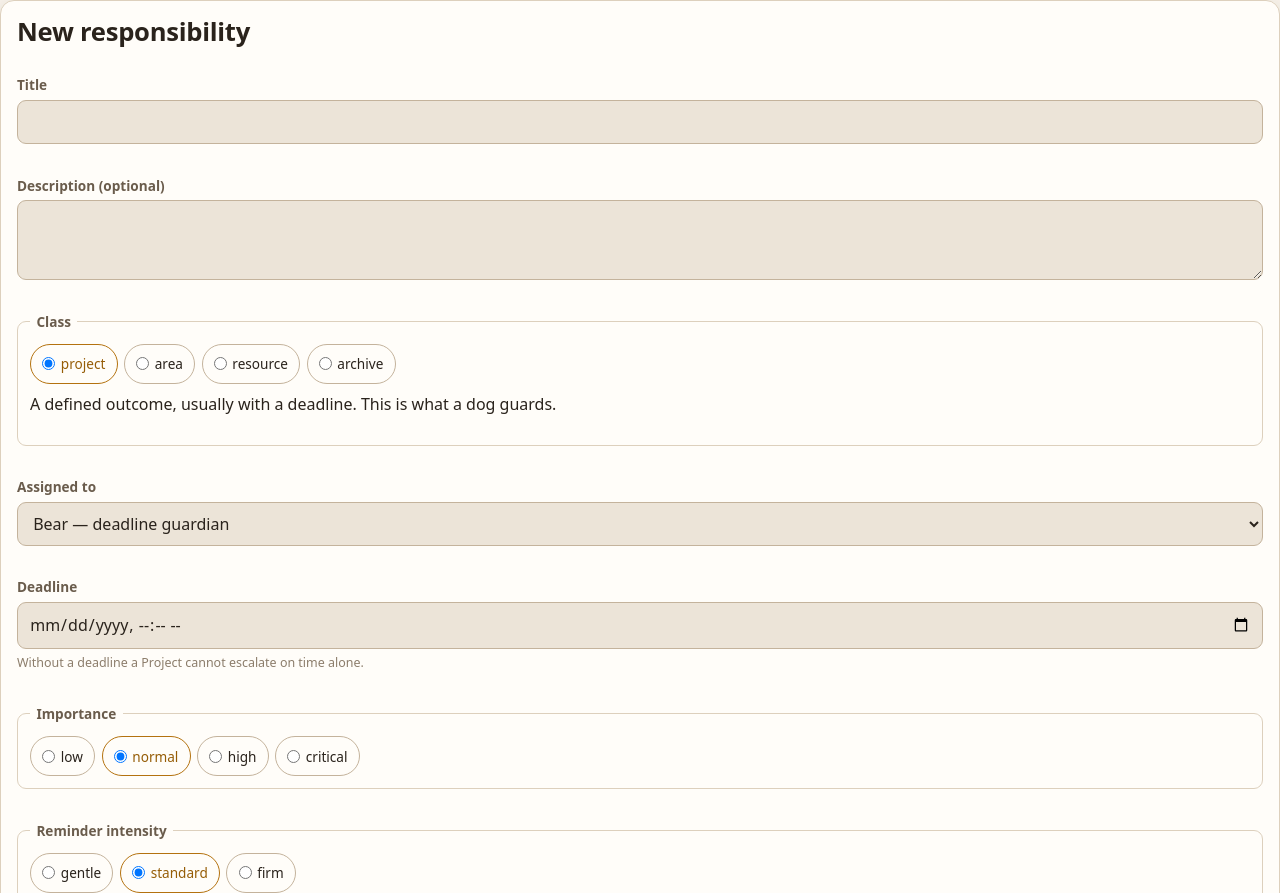
Scenario: ResponsibilityEditor › explains that Resources and Archives stay quiet
What coordinates should you click on to do the following:
click the radio button labelled "resource"
I would click on:
 (220, 364)
Its box is [214, 357, 227, 370].
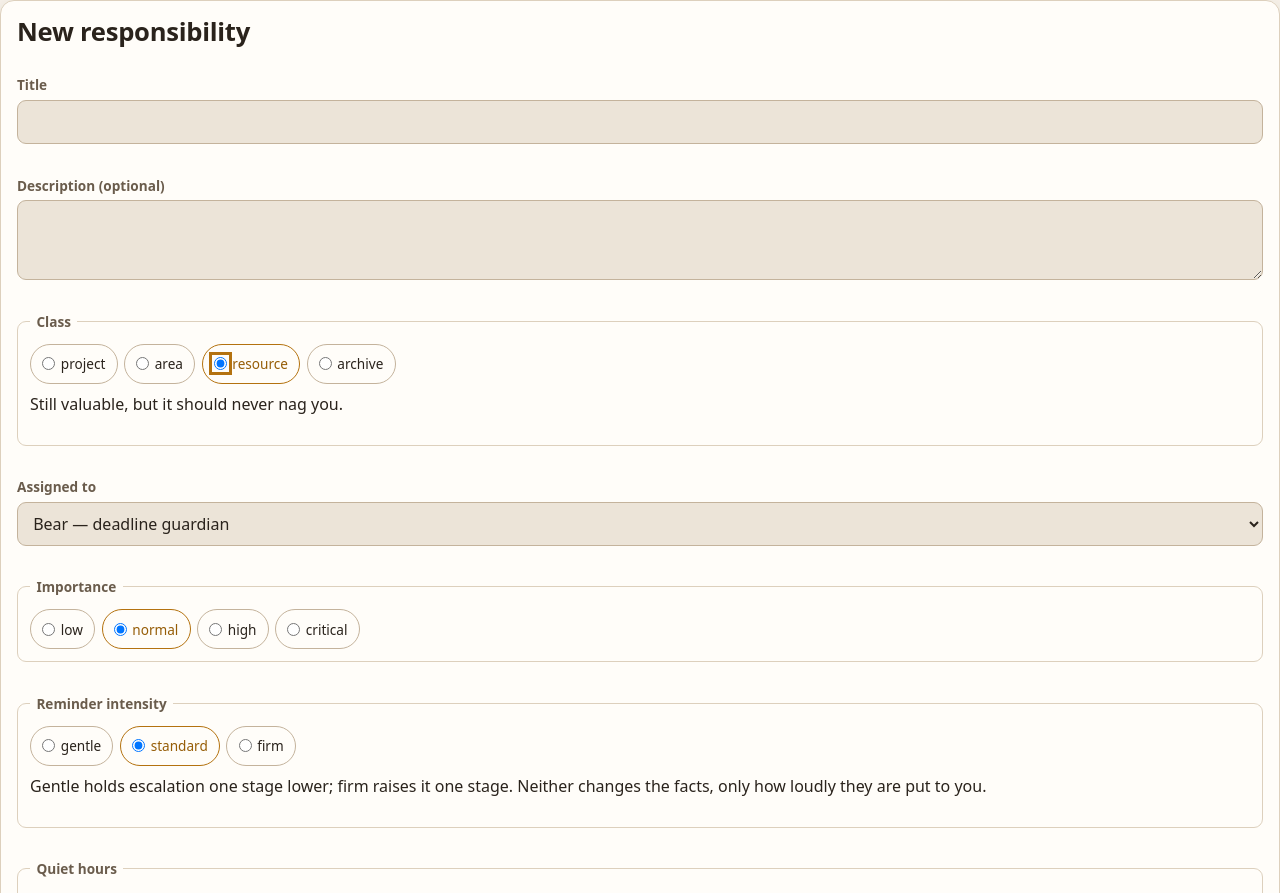
Result: the text "Still valuable, but it should never nag you." is shown at [30, 393, 343, 415]
What coordinates should you click on to do the following:
click the radio button labelled "archive"
I would click on:
 (325, 364)
Its box is [319, 357, 332, 370].
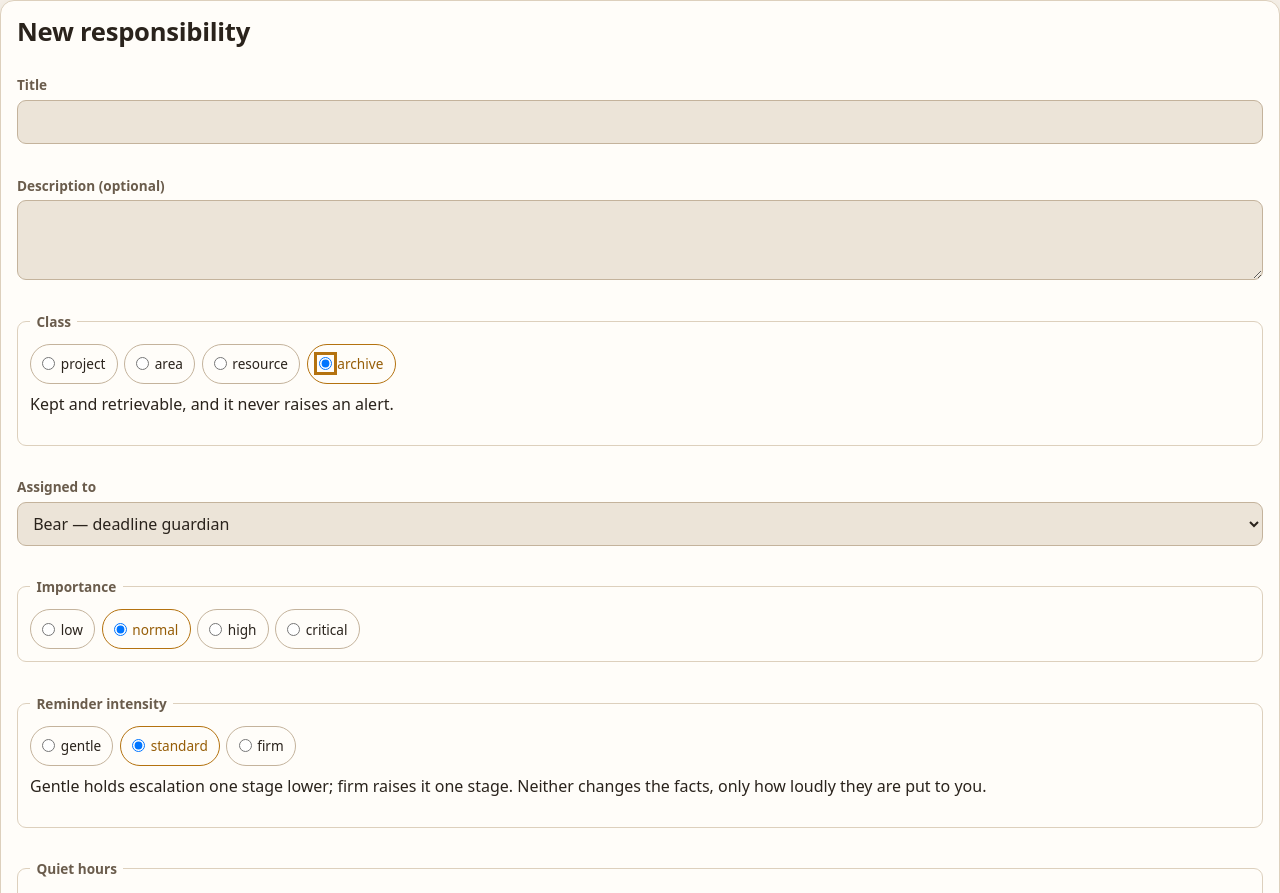
Result: the text "Kept and retrievable, and it never raises an alert." is shown at [30, 393, 394, 415]
